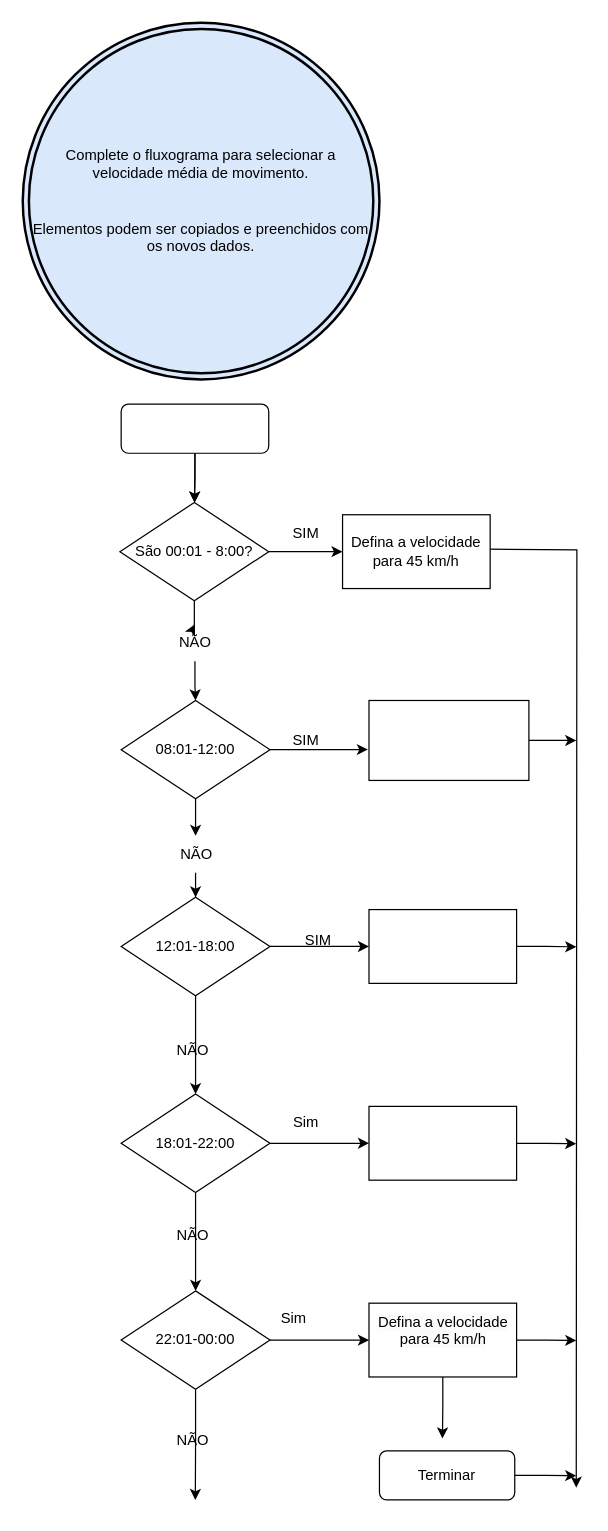
Image size: 608x1531. Some labels were removed from this diagram. Each missing label, with the centre of its shape:
"Defina a velocidade para 25 km/h" goes at point 442,1142.
"Defina a velocidade para 30 km/h" goes at point 448,739.
"Defina a velocidade para 40 km/h" goes at point 442,945.
"Iniciar" goes at point 194,428.
